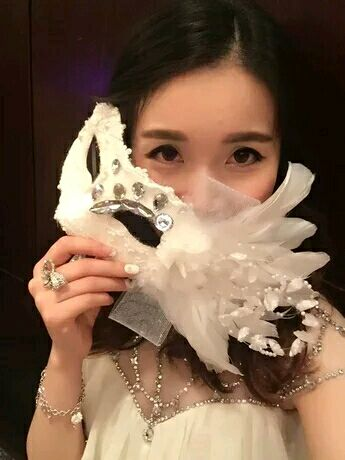face: (133, 67, 278, 286)
